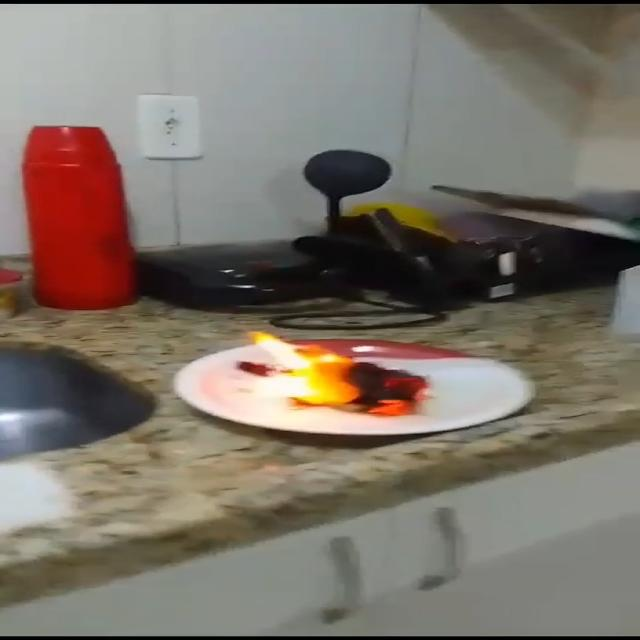fogo-ypXI: (247, 328, 433, 417)
